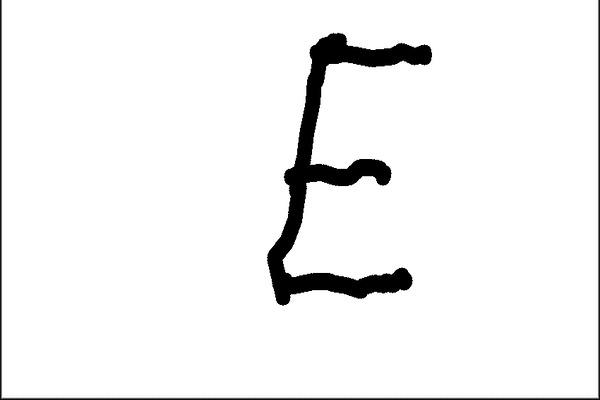E: (260, 26, 450, 307)
